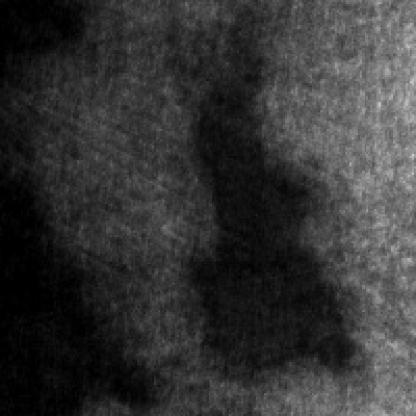patches: (183, 52, 352, 374), (0, 150, 110, 414), (0, 0, 94, 69)
